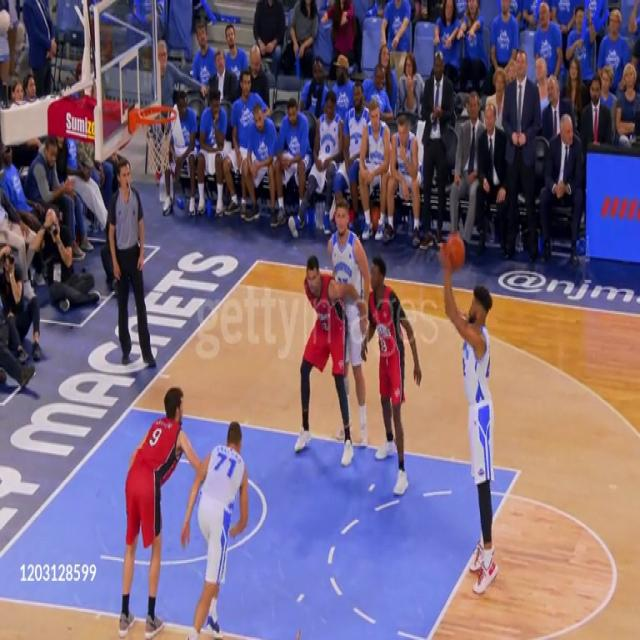ball: (443, 236, 465, 271)
